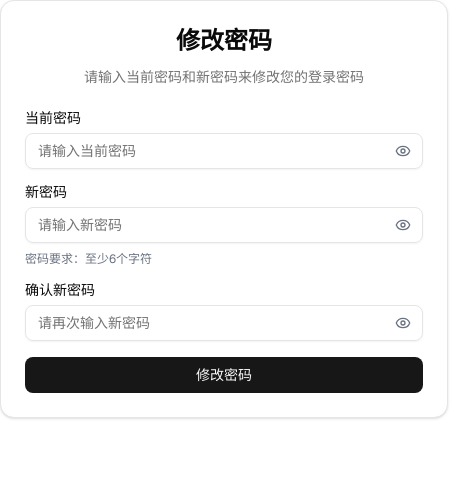
ChangePasswordForm › 表单验证 › 应该显示错误当新密码为空
Type "oldpass123" into the password field labelled "当前密码" at (224, 151), box [25,133,423,169]
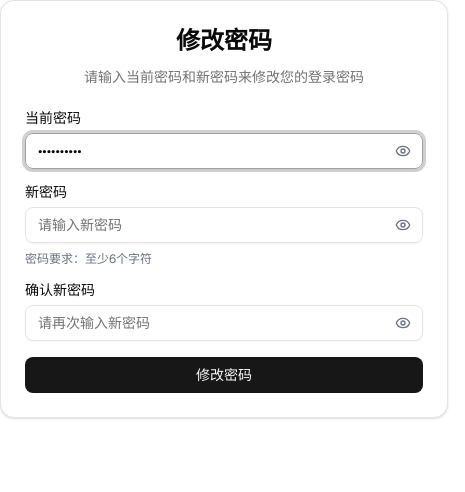
Click the button "修改密码" at (224, 375), box [25,357,423,393]
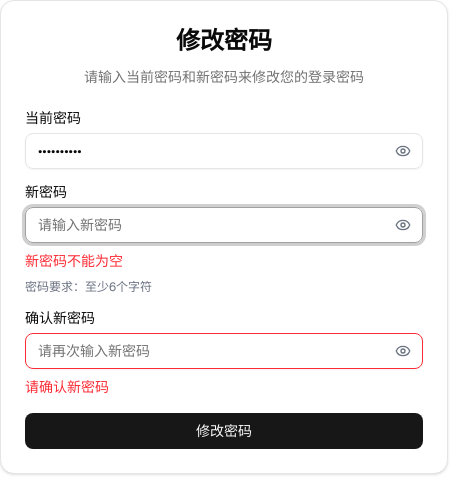
expect the text "新密码不能为空" is shown: met, box [25,252,123,270]
